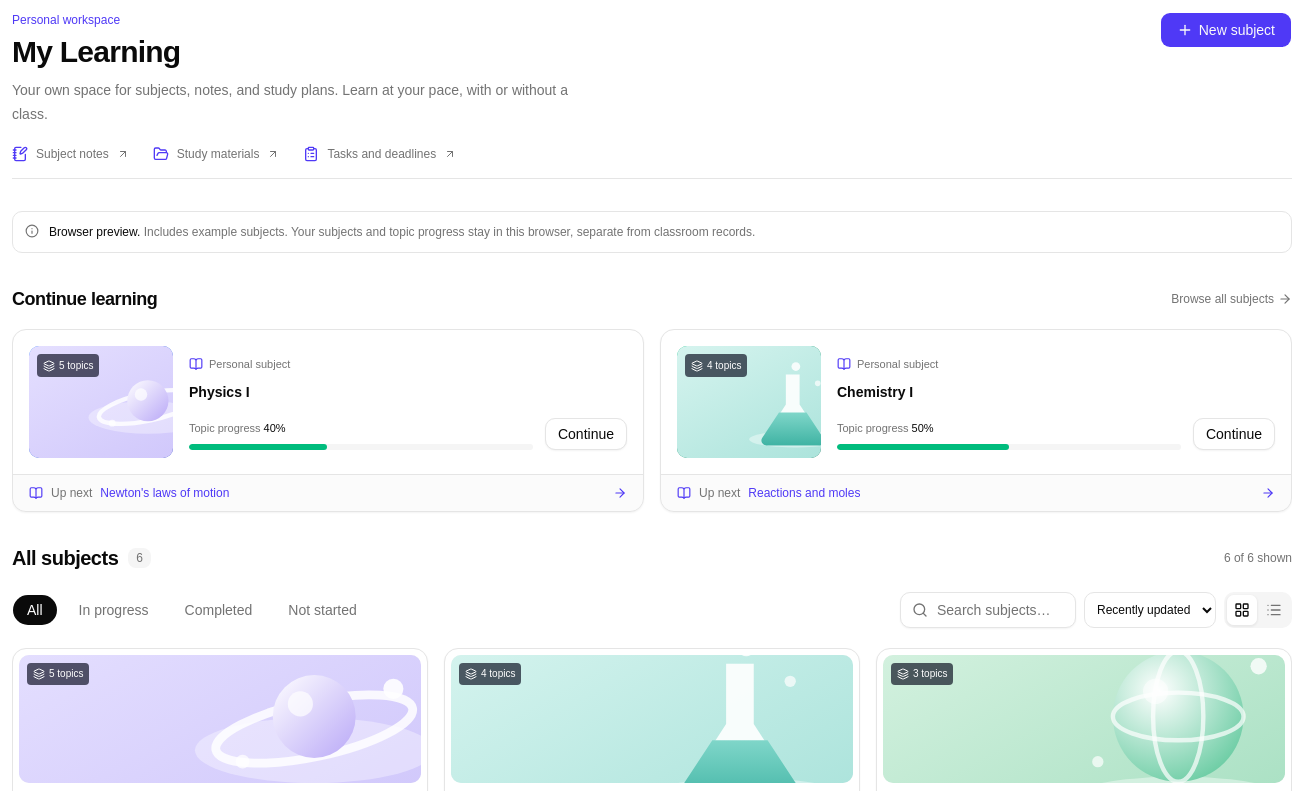
Test: SubjectsView › continues the next unfinished topic and persists only that subject's completion
Click the link with aria-label "Continue studying Physics I".
click(586, 434)  # box [545,418,627,450]
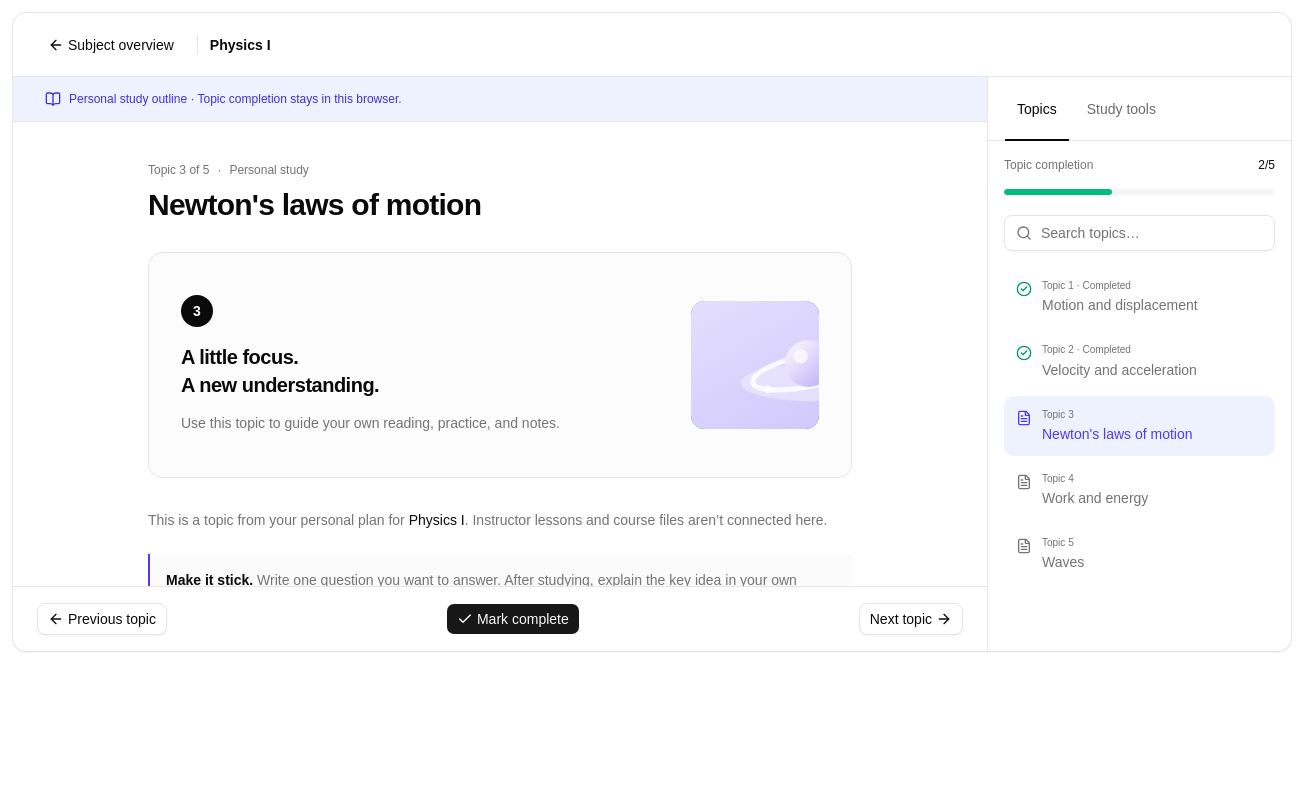
expect the heading "Newton's laws of motion" is shown: met, box [148,188,481,221]
Click the button "Mark complete".
click(513, 619)  # box [446,603,580,635]
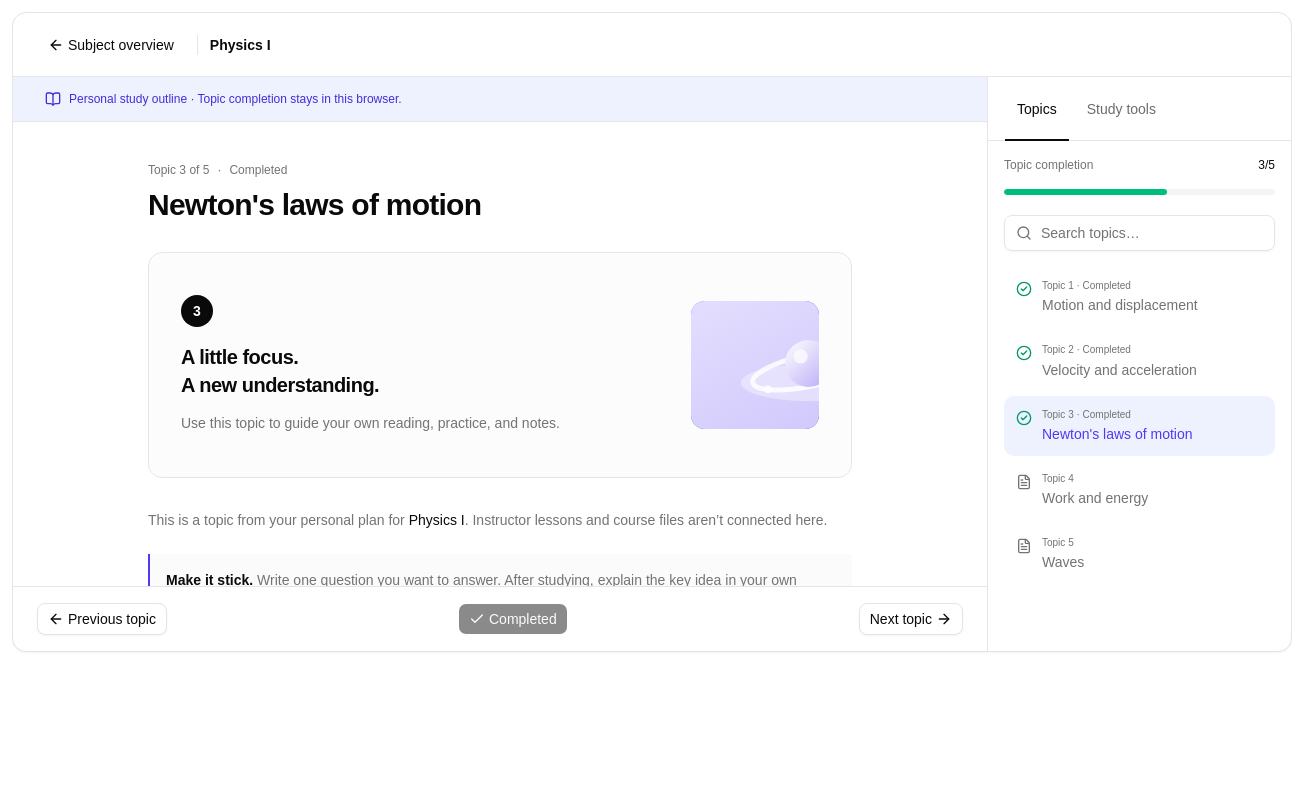
Click the button "Next topic".
click(911, 619)  # box [859,603,963,635]
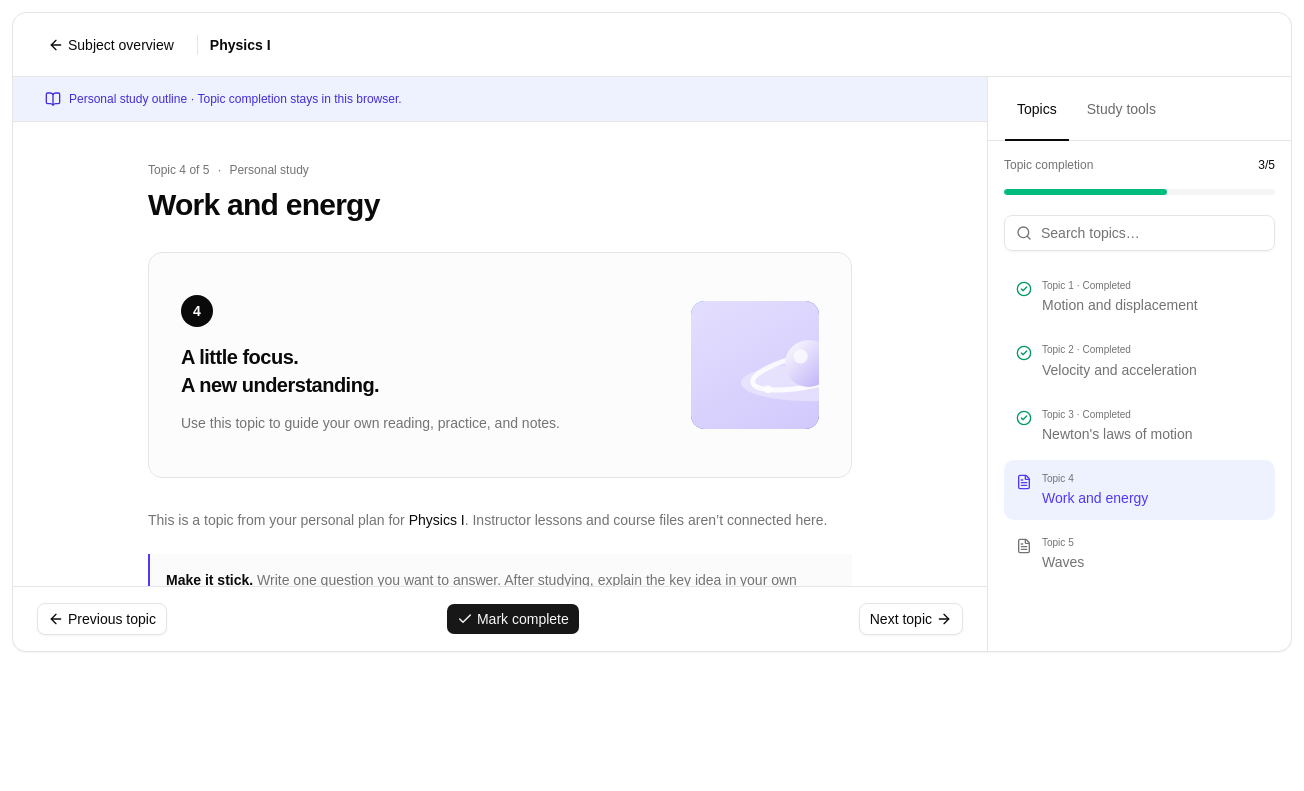
expect the heading "Work and energy" is shown: met, box [148,188,380,221]
Click the button "Subject overview".
click(111, 44)  # box [37,28,185,60]
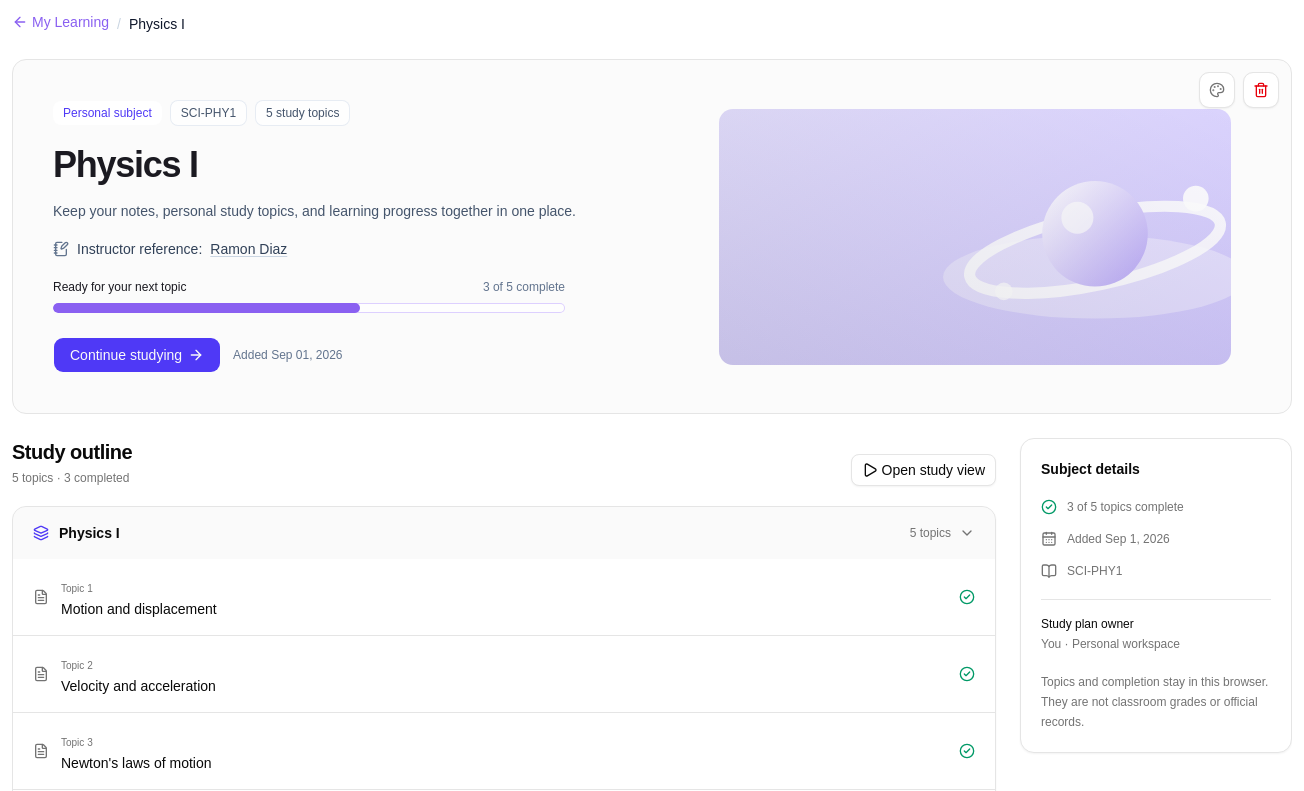
expect the element named "Subject overview" is shown: met, box [12,59,1292,414]
